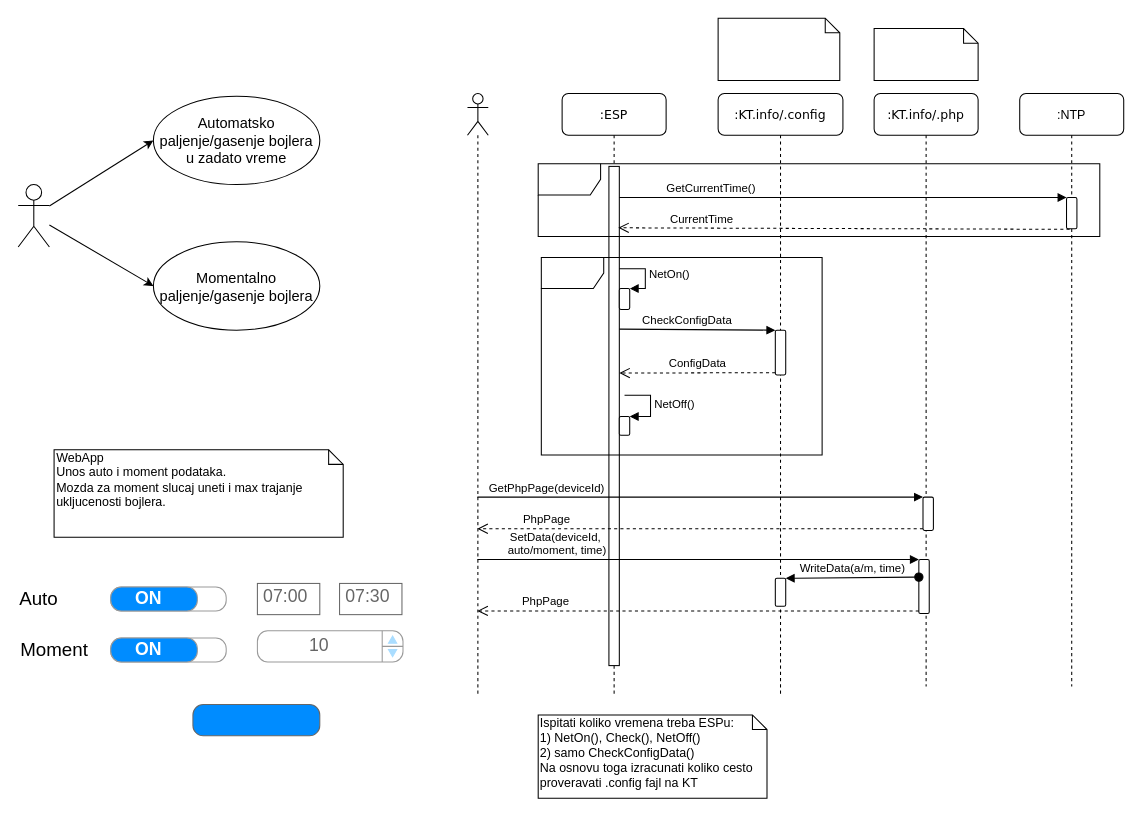
Image size: 1142x816. Some labels were removed from this diagram. The shapes that lost their labels are listed below. From the top down, each one's centre as x and y in pixels, then its label:
At point (778, 49): "deviceId.config fajl se zove po IDu aparata cija podesavanja cuva".
At point (925, 54): "WebApp koja uredjuje .config fajl.".
At point (33, 215): "Actor".
At point (818, 200): "svakih 24h".
At point (681, 355): "svakih x secs".
At point (256, 720): "OK".
